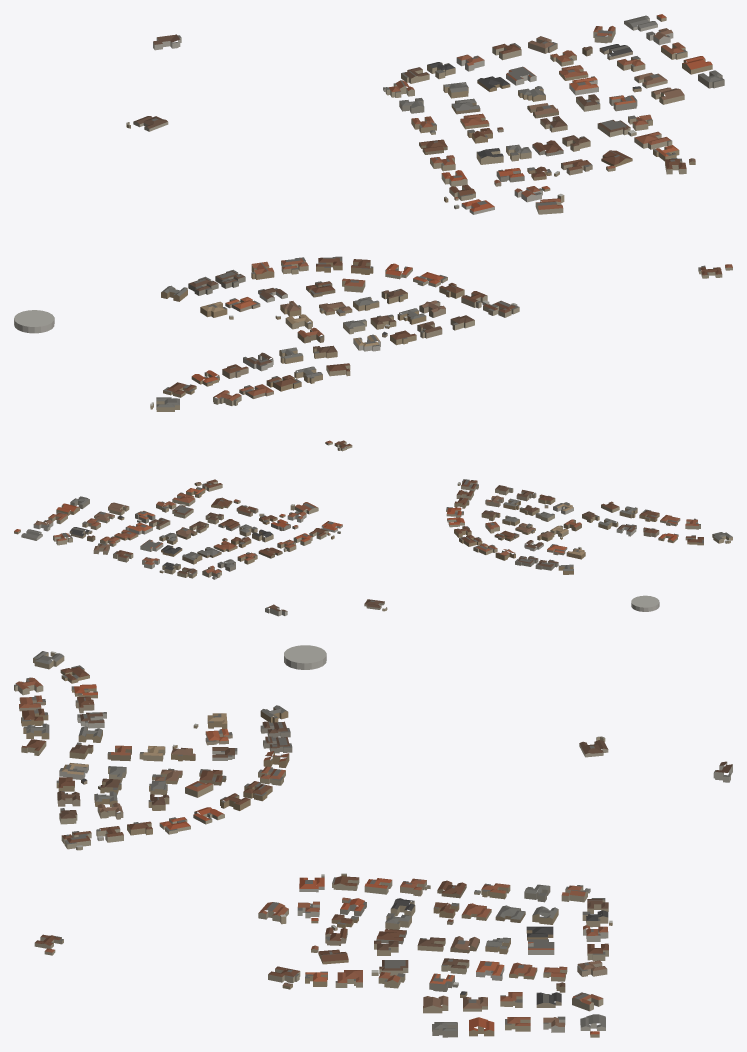
3 views of the same model, one above another, from view 1: azimuth 30°, elevation 25°; view 2: azimuth 150°, elevation 25°; view 3: azimuth 270°, elevation 25° (orthographic). The views are drawn at different scales.
Visible parts, largest first — view 1: buildings_r2_c3_lod1; view 2: buildings_r2_c3_lod1; view 3: buildings_r2_c3_lod1.
Part boxes in pixels (bbox=[...]): buildings_r2_c3_lod1: bbox=[14, 14, 732, 411]; buildings_r2_c3_lod1: bbox=[14, 440, 732, 616]; buildings_r2_c3_lod1: bbox=[14, 645, 732, 1037].
Bounding box in the file's own units: 1026 × 76.38 × 769.
